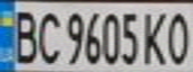0: (100, 8, 121, 65)
5: (118, 8, 142, 65)
6: (81, 7, 103, 65)
9: (60, 7, 84, 65)
B: (6, 6, 42, 65)
C: (33, 7, 63, 65)
K: (139, 7, 172, 66)
O: (163, 7, 193, 66)
